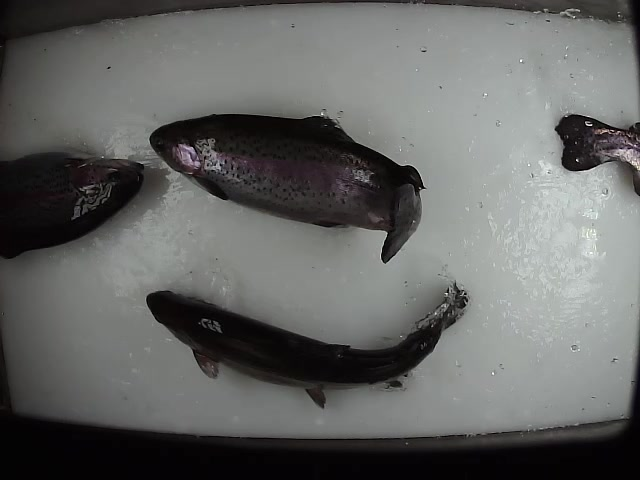fish: (148, 111, 428, 266), (144, 284, 469, 410)
